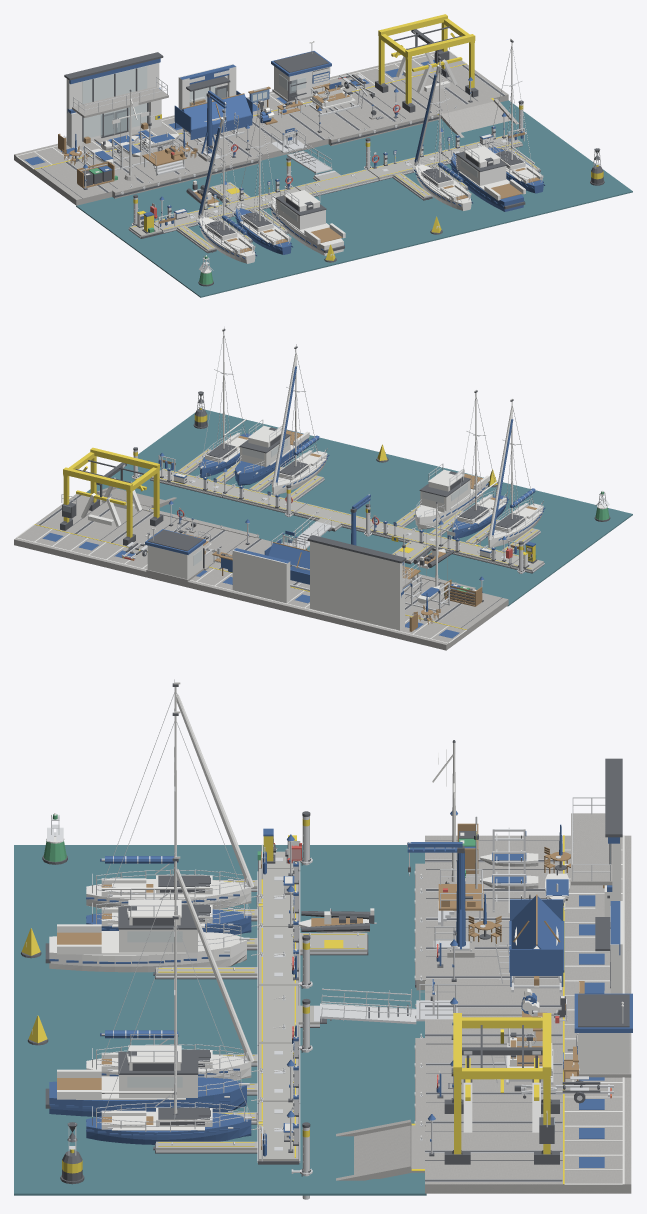
The model's file is marina-and-yacht-club-marina-and-yacht-c-e349a92e-starter-scene.glb.
3 views of the same model, one above another, from view 1: azimuth 30°, elevation 25°; view 2: azimuth 150°, elevation 25°; view 3: azimuth 270°, elevation 25° (orthographic). The views are drawn at different scales.
Parts seen in each view (by area): view 1: 176-marina-and-yacht-club-clubhouse-front/0, 011-marina-and-yacht-club-sea-water-plane-module/0, 176-marina-and-yacht-club-clubhouse-front/1, 002-marina-and-yacht-club-sea-water-plane-module/0, 165-marina-and-yacht-club-boat-hoist/0, 017-marina-and-yacht-club-sea-water-plane-module/0, 008-marina-and-yacht-club-sea-water-plane-module/0, 084-marina-and-yacht-club-motor-cruiser-hull/0, 000-marina-and-yacht-club-sea-water-plane-module/0, 168-marina-and-yacht-club-boat-under-cover/4, 012-marina-and-yacht-club-sea-water-plane-module/0, 006-marina-and-yacht-club-sea-water-plane-module/0 (+61 smaller); view 2: 176-marina-and-yacht-club-clubhouse-front/0, 011-marina-and-yacht-club-sea-water-plane-module/0, 002-marina-and-yacht-club-sea-water-plane-module/0, 165-marina-and-yacht-club-boat-hoist/0, 177-marina-and-yacht-club-chandlery-front/0, 000-marina-and-yacht-club-sea-water-plane-module/0, 084-marina-and-yacht-club-motor-cruiser-hull/0, 017-marina-and-yacht-club-sea-water-plane-module/0, 012-marina-and-yacht-club-sea-water-plane-module/0, 009-marina-and-yacht-club-sea-water-plane-module/0, 001-marina-and-yacht-club-sea-water-plane-module/0, 010-marina-and-yacht-club-sea-water-plane-module/0 (+48 smaller); view 3: 084-marina-and-yacht-club-motor-cruiser-hull/0, 017-marina-and-yacht-club-sea-water-plane-module/0, 008-marina-and-yacht-club-sea-water-plane-module/0, 000-marina-and-yacht-club-sea-water-plane-module/0, 009-marina-and-yacht-club-sea-water-plane-module/0, 012-marina-and-yacht-club-sea-water-plane-module/0, 016-marina-and-yacht-club-sea-water-plane-module/0, 002-marina-and-yacht-club-sea-water-plane-module/0, 011-marina-and-yacht-club-sea-water-plane-module/0, 006-marina-and-yacht-club-sea-water-plane-module/0, 015-marina-and-yacht-club-sea-water-plane-module/0, 165-marina-and-yacht-club-boat-hoist/0 (+75 smaller).
Boxes of the visible parts, bbox=[...] form: 176-marina-and-yacht-club-clubhouse-front/0: bbox=[66, 63, 161, 147]; 011-marina-and-yacht-club-sea-water-plane-module/0: bbox=[375, 199, 488, 244]; 176-marina-and-yacht-club-clubhouse-front/1: bbox=[82, 66, 147, 138]; 002-marina-and-yacht-club-sea-water-plane-module/0: bbox=[159, 251, 272, 297]; 165-marina-and-yacht-club-boat-hoist/0: bbox=[378, 14, 475, 104]; 017-marina-and-yacht-club-sea-water-plane-module/0: bbox=[539, 161, 632, 209]; 008-marina-and-yacht-club-sea-water-plane-module/0: bbox=[329, 213, 416, 262]; 084-marina-and-yacht-club-motor-cruiser-hull/0: bbox=[271, 190, 345, 255]; 000-marina-and-yacht-club-sea-water-plane-module/0: bbox=[76, 190, 177, 236]; 168-marina-and-yacht-club-boat-under-cover/4: bbox=[174, 90, 252, 139]; 012-marina-and-yacht-club-sea-water-plane-module/0: bbox=[367, 120, 471, 160]; 006-marina-and-yacht-club-sea-water-plane-module/0: bbox=[224, 153, 319, 195]; 176-marina-and-yacht-club-clubhouse-front/0: bbox=[310, 541, 404, 630]; 011-marina-and-yacht-club-sea-water-plane-module/0: bbox=[316, 444, 416, 491]; 002-marina-and-yacht-club-sea-water-plane-module/0: bbox=[533, 496, 632, 545]; 165-marina-and-yacht-club-boat-hoist/0: bbox=[63, 447, 159, 537]; 177-marina-and-yacht-club-chandlery-front/0: bbox=[232, 550, 290, 603]; 000-marina-and-yacht-club-sea-water-plane-module/0: bbox=[446, 559, 549, 606]; 084-marina-and-yacht-club-motor-cruiser-hull/0: bbox=[415, 469, 489, 529]; 017-marina-and-yacht-club-sea-water-plane-module/0: bbox=[159, 409, 272, 450]; 012-marina-and-yacht-club-sea-water-plane-module/0: bbox=[159, 489, 257, 527]; 009-marina-and-yacht-club-sea-water-plane-module/0: bbox=[230, 507, 315, 543]; 001-marina-and-yacht-club-sea-water-plane-module/0: bbox=[494, 532, 591, 575]; 010-marina-and-yacht-club-sea-water-plane-module/0: bbox=[278, 479, 374, 512]; 084-marina-and-yacht-club-motor-cruiser-hull/0: bbox=[49, 900, 246, 972]; 017-marina-and-yacht-club-sea-water-plane-module/0: bbox=[14, 1135, 151, 1195]; 008-marina-and-yacht-club-sea-water-plane-module/0: bbox=[14, 961, 151, 1019]; 000-marina-and-yacht-club-sea-water-plane-module/0: bbox=[300, 845, 424, 902]; 009-marina-and-yacht-club-sea-water-plane-module/0: bbox=[300, 1019, 424, 1077]; 012-marina-and-yacht-club-sea-water-plane-module/0: bbox=[300, 1077, 414, 1135]; 016-marina-and-yacht-club-sea-water-plane-module/0: bbox=[151, 1135, 288, 1195]; 002-marina-and-yacht-club-sea-water-plane-module/0: bbox=[14, 845, 151, 902]; 011-marina-and-yacht-club-sea-water-plane-module/0: bbox=[14, 1019, 151, 1077]; 006-marina-and-yacht-club-sea-water-plane-module/0: bbox=[300, 961, 424, 1019]; 015-marina-and-yacht-club-sea-water-plane-module/0: bbox=[289, 1135, 426, 1195]; 165-marina-and-yacht-club-boat-hoist/0: bbox=[453, 1013, 551, 1154].
Size of the model in its own units: 48.12 by 16.01 by 36.
12 materials, 1 textured.
